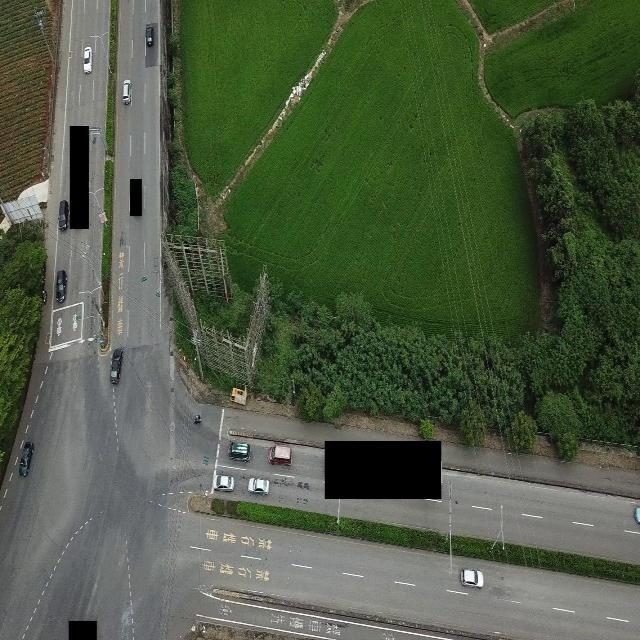bike: (193, 413, 202, 425)
car: (227, 440, 253, 462), (461, 565, 484, 588), (269, 442, 292, 464), (110, 345, 122, 383), (56, 266, 68, 303), (20, 440, 32, 477), (246, 475, 268, 494), (212, 473, 234, 492), (58, 200, 69, 232), (82, 45, 92, 74), (122, 80, 131, 104), (146, 24, 155, 46), (633, 504, 640, 525)
